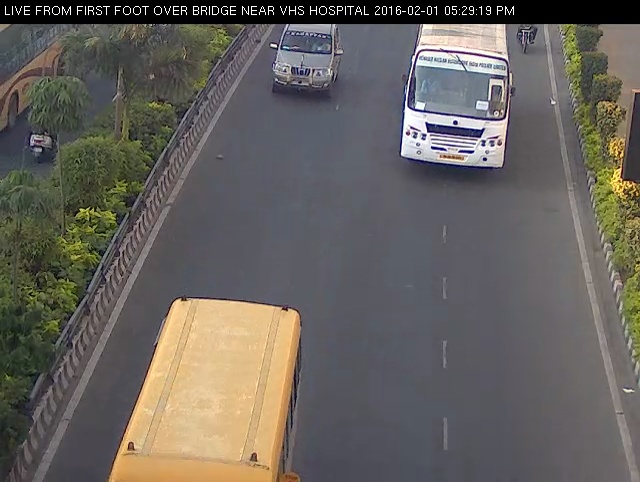Bus: (105, 283, 310, 482), (397, 21, 515, 189)
Car: (261, 17, 352, 106)
Person: (513, 17, 541, 57)
